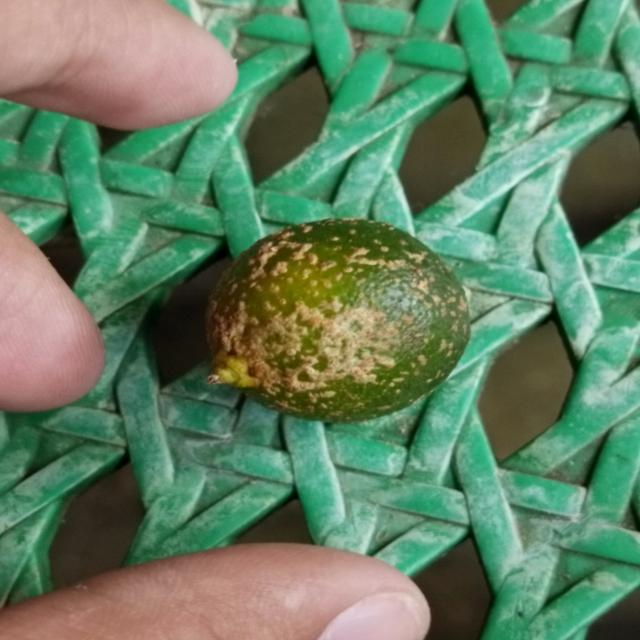scab: (203, 216, 471, 417)
